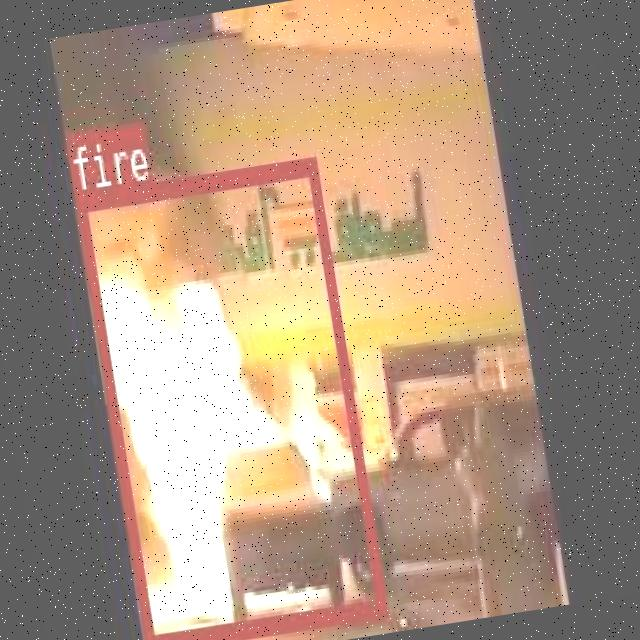fire: (72, 154, 385, 640)
